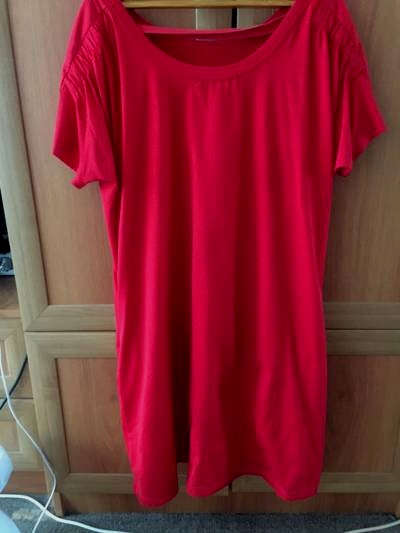Dress: (42, 8, 381, 510)
